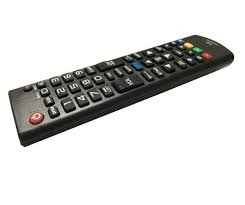remote control: (0, 29, 244, 150)
